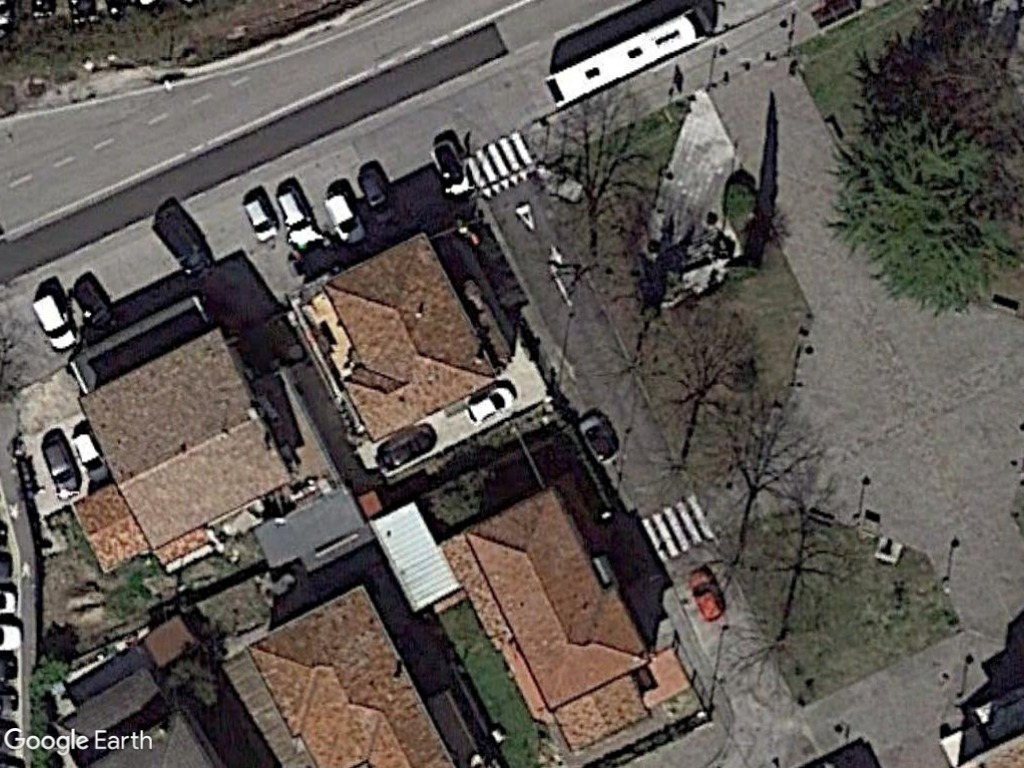bus: (536, 5, 716, 111)
car: (426, 136, 477, 201), (38, 435, 85, 502), (273, 182, 320, 248), (460, 383, 520, 429), (321, 191, 369, 247), (685, 565, 729, 624), (240, 191, 278, 244)
van: (28, 291, 80, 354)
